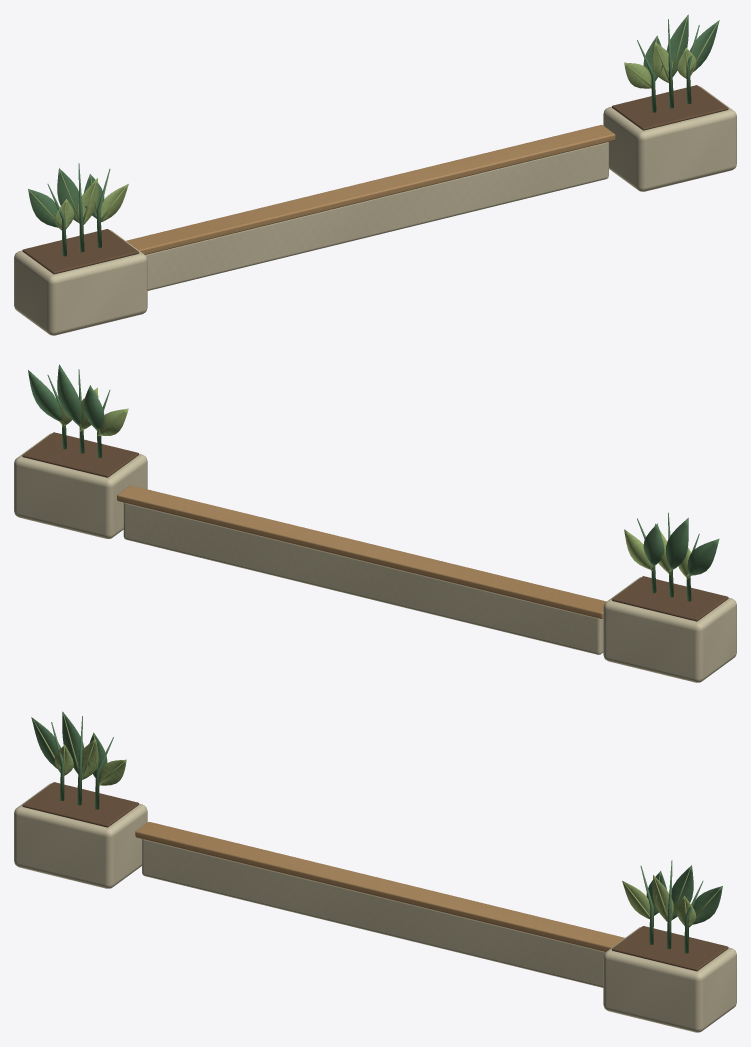
The model's file is backdrop_module.glb.
The picture shows the model from 3 angles, top to bottom: view 1: azimuth 30°, elevation 25°; view 2: azimuth 150°, elevation 25°; view 3: azimuth 330°, elevation 25°; orthographic projection.
Parts seen in each view (by area): view 1: BackdropLowRail, BackdropCap, PlanterBody, PlanterBody.001, PlanterInset, PlanterInset.001, BackdropLeaf, BackdropLeaf.008, BackdropLeaf.002, BackdropLeaf.010; view 2: BackdropLowRail, BackdropCap, PlanterBody, PlanterBody.001, PlanterInset.001, PlanterInset, BackdropLeaf.008, BackdropLeaf.002, BackdropLeaf.010, BackdropLeaf, BackdropLeaf.006, BackdropLeaf.004 (+1 smaller); view 3: BackdropLowRail, BackdropCap, PlanterBody.001, PlanterBody, PlanterInset.001, PlanterInset, BackdropLeaf.010, BackdropLeaf.002, BackdropLeaf.008, BackdropLeaf.
Part boxes in pixels (box(x1,y1,x2,y2)): BackdropLowRail: box(145, 142, 608, 290); BackdropCap: box(126, 125, 615, 254); PlanterBody: box(14, 230, 147, 335); PlanterBody.001: box(603, 86, 736, 191); PlanterInset: box(22, 229, 139, 274); PlanterInset.001: box(612, 85, 728, 130); BackdropLeaf: box(28, 189, 61, 227); BackdropLeaf.008: box(666, 14, 688, 76); BackdropLeaf.002: box(57, 168, 79, 223); BackdropLeaf.010: box(690, 20, 719, 71); BackdropLowRail: box(123, 502, 603, 654); BackdropCap: box(117, 485, 606, 618); PlanterBody: box(603, 577, 736, 682); PlanterBody.001: box(14, 433, 147, 538); PlanterInset.001: box(22, 432, 138, 477); PlanterInset: box(611, 576, 728, 621); BackdropLeaf.008: box(57, 364, 81, 425); BackdropLeaf.002: box(666, 518, 688, 570); BackdropLeaf.010: box(28, 370, 61, 421); BackdropLeaf: box(687, 539, 719, 575); BackdropLeaf.006: box(83, 385, 104, 430); BackdropLeaf.004: box(643, 523, 664, 565); BackdropLowRail: box(142, 839, 605, 987); BackdropCap: box(135, 822, 624, 951); PlanterBody.001: box(603, 927, 736, 1032); PlanterBody: box(14, 783, 147, 888); PlanterInset.001: box(611, 926, 728, 971); PlanterInset: box(22, 782, 138, 827); BackdropLeaf.010: box(689, 886, 722, 924); BackdropLeaf.002: box(62, 711, 84, 773); BackdropLeaf.008: box(671, 865, 693, 919); BackdropLeaf: box(31, 717, 60, 768).
Size of the model in its own units: 8.68 by 1.78 by 0.85.
1 material, 1 textured.
